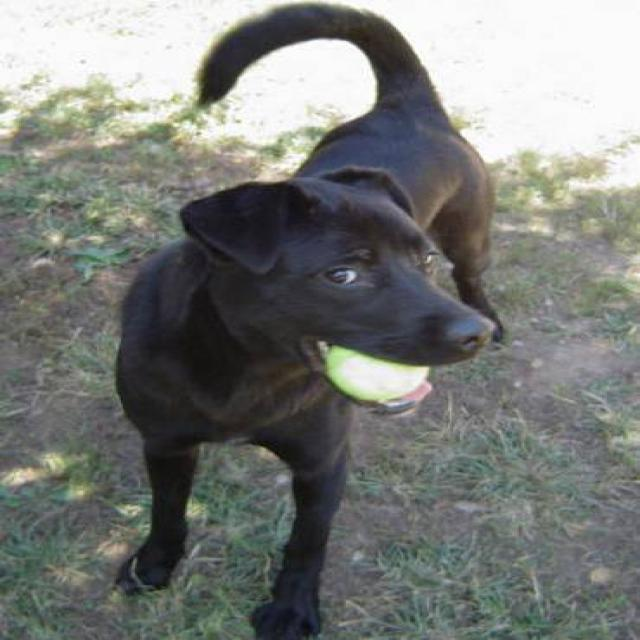Dog: (154, 153, 495, 440)
